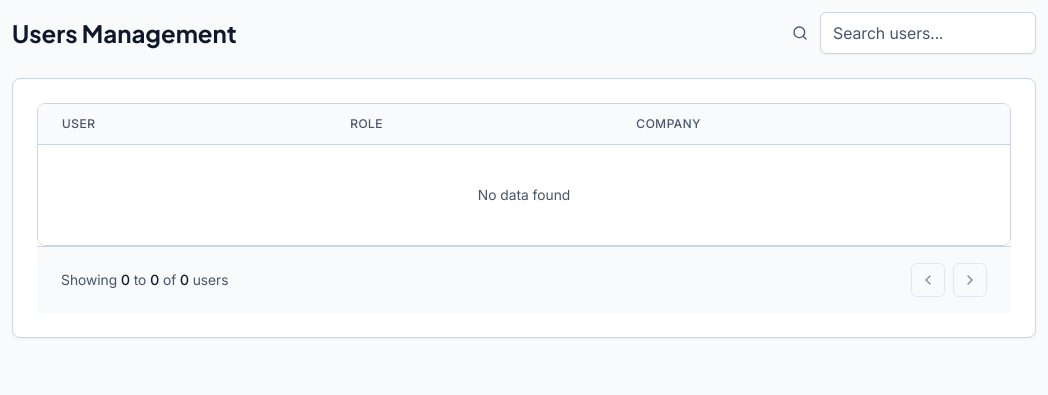
Users search race condition › keeps "alex" results when the earlier "a" request finishes last
Type "a" into the field with placeholder "Search users...".
click(928, 33); type("a")  # box [820, 12, 1036, 54]
Wait 500 ms
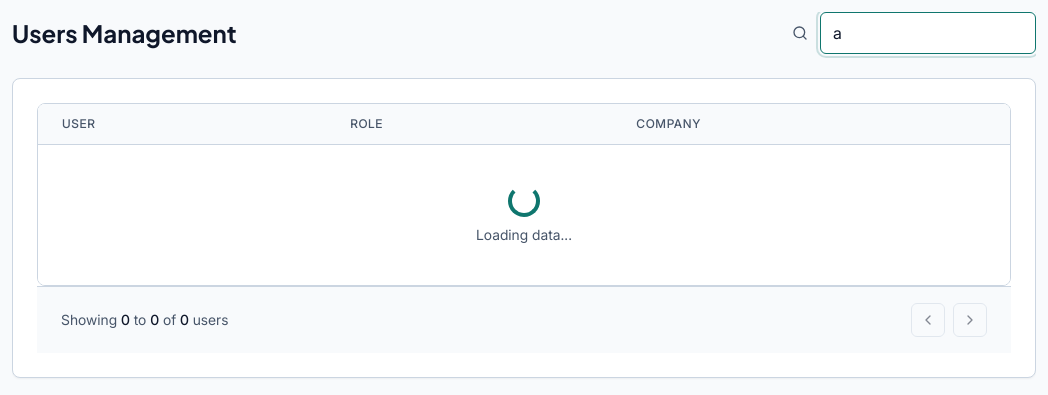
Type "lex" into the field with placeholder "Search users...".
click(928, 33); type("lex")  # box [820, 12, 1036, 54]
Wait 500 ms
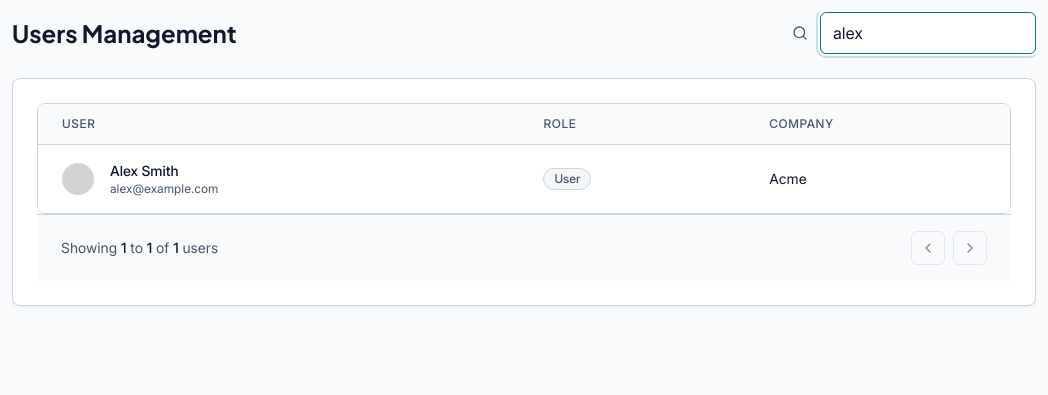
Expected: the text "Alex Smith" is shown, [110, 162, 179, 179]
